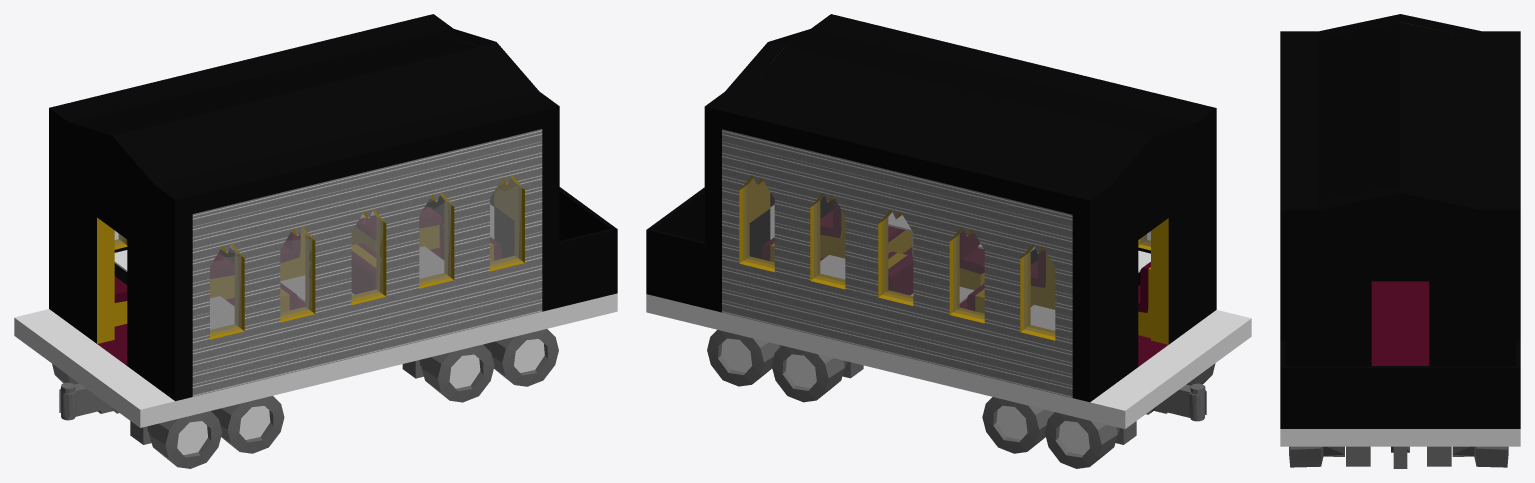
File: SubwayCar_3.glb
3 renders of one model, left to right at view 1: azimuth 30°, elevation 25°; view 2: azimuth 150°, elevation 25°; view 3: azimuth 270°, elevation 25°, orthographic. The views are drawn at different scales.
Parts seen in each view (by area): view 1: Ext.001, Floors, Undercarriage, Booths, Caboose Railing, Coupling; view 2: Ext.001, Floors, Undercarriage, Booths, Caboose Railing, Coupling; view 3: Ext.001, Caboose Railing, Floors, Undercarriage.
Boxes of the visible parts, x1=… form: Ext.001: x1=49, y1=14, x2=559, y2=401; Floors: x1=14, y1=204, x2=617, y2=427; Undercarriage: x1=52, y1=329, x2=558, y2=468; Booths: x1=114, y1=205, x2=501, y2=329; Caboose Railing: x1=490, y1=187, x2=617, y2=307; Coupling: x1=59, y1=382, x2=76, y2=420; Ext.001: x1=704, y1=14, x2=1216, y2=402; Floors: x1=646, y1=205, x2=1251, y2=428; Undercarriage: x1=707, y1=330, x2=1215, y2=468; Booths: x1=762, y1=198, x2=1150, y2=338; Caboose Railing: x1=646, y1=187, x2=774, y2=308; Coupling: x1=1189, y1=383, x2=1206, y2=421; Ext.001: x1=1280, y1=14, x2=1520, y2=365; Caboose Railing: x1=1280, y1=341, x2=1520, y2=428; Floors: x1=1280, y1=281, x2=1520, y2=446; Undercarriage: x1=1289, y1=446, x2=1508, y2=468.
Size of what is drawn, in the model's own units: 8.61 by 4.93 by 3.81.
11 materials, 1 textured.
